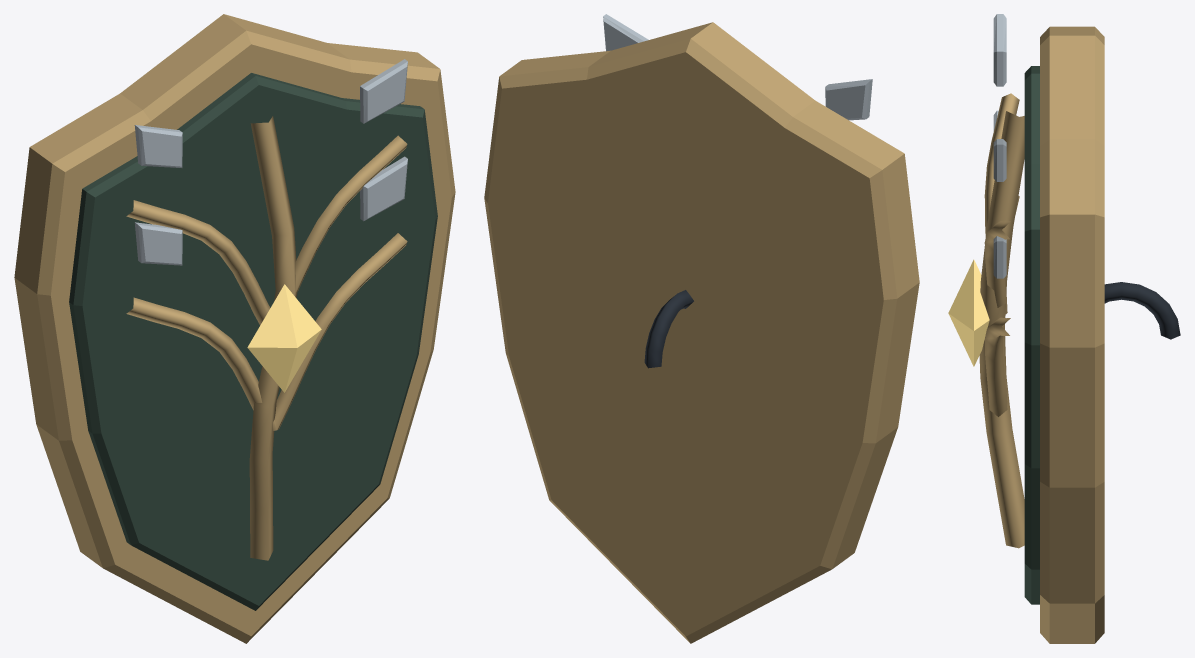
Rendered from universal-low.glb.
3 renders of one model, left to right at view 1: azimuth 30°, elevation 25°; view 2: azimuth 150°, elevation 25°; view 3: azimuth 270°, elevation 25°, orthographic.
Visible parts, largest first — view 1: Grovekeeper Shield; view 2: Grovekeeper Shield; view 3: Grovekeeper Shield.
Part boxes in pixels (x1,y1,x2,y2): Grovekeeper Shield: (14,14,455,643); Grovekeeper Shield: (484,14,919,643); Grovekeeper Shield: (948,14,1180,643).
Size of the model in its own units: 0.5842 by 0.8183 by 0.2832.
